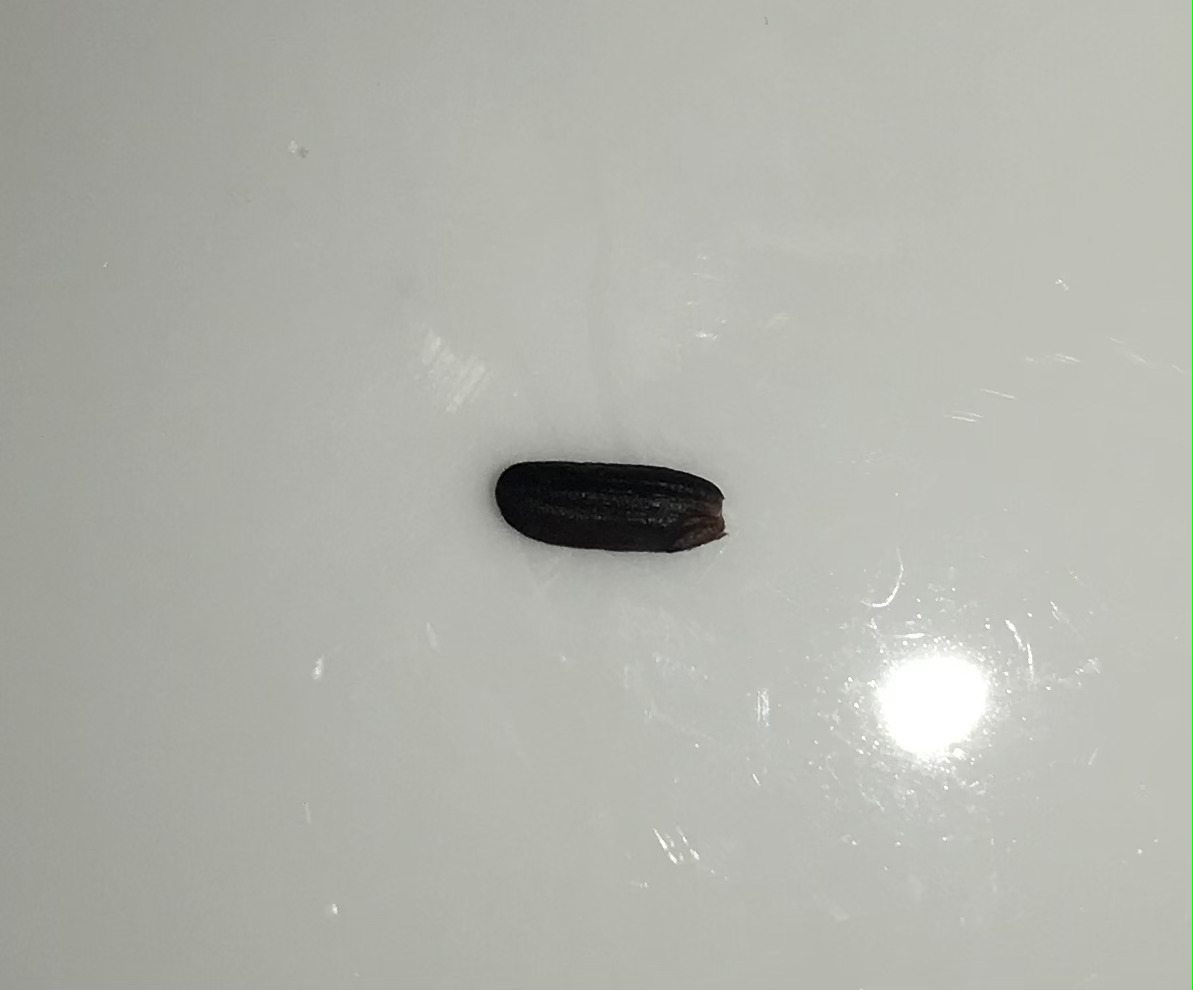Gao lut: (496, 460, 731, 559)
